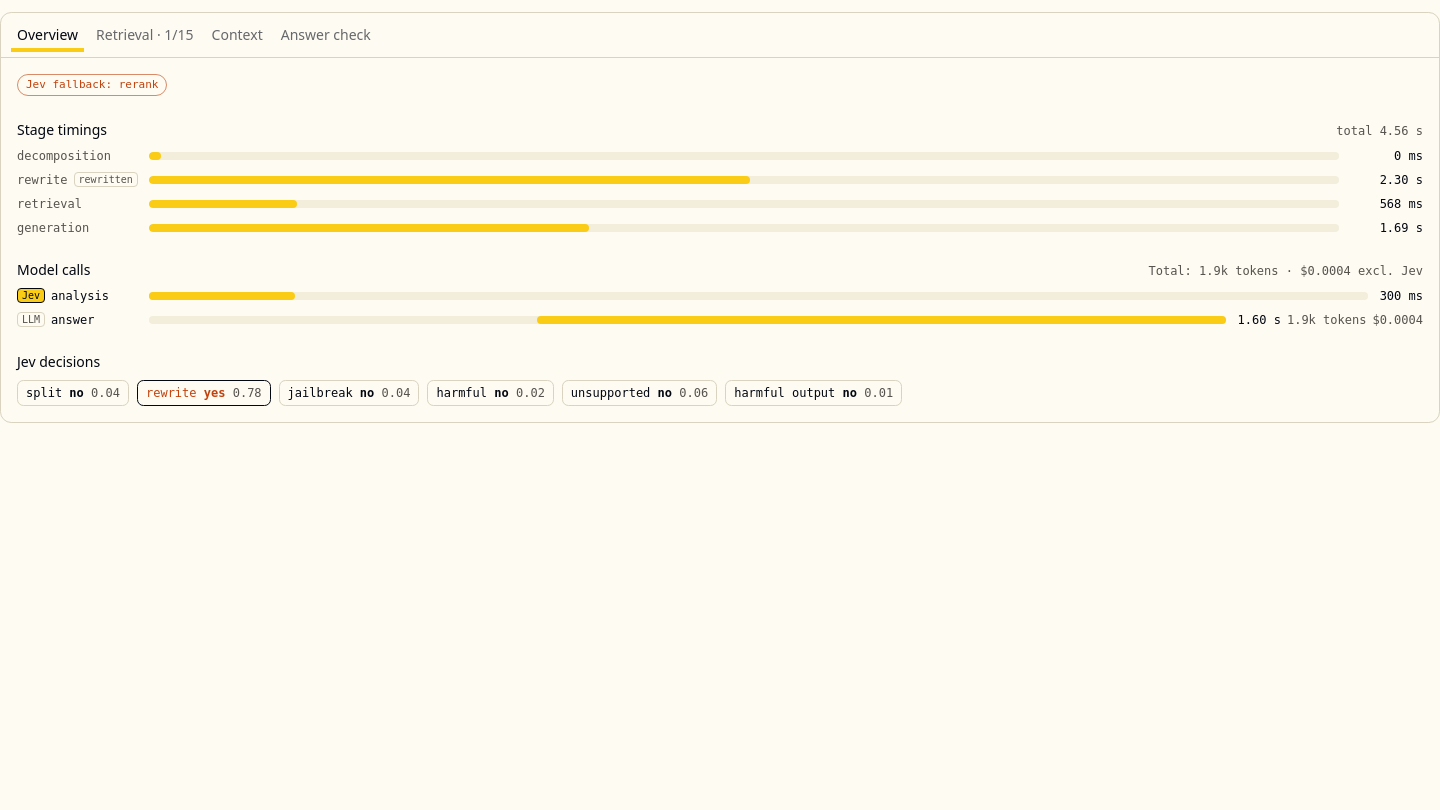
Test: transparency fields › retrieval lists every candidate with a found → kept headline
This screenshot has width=1440, height=810.
Click the tab "Retrieval · 1/15" at x=145, y=35, box [89, 22, 201, 48]
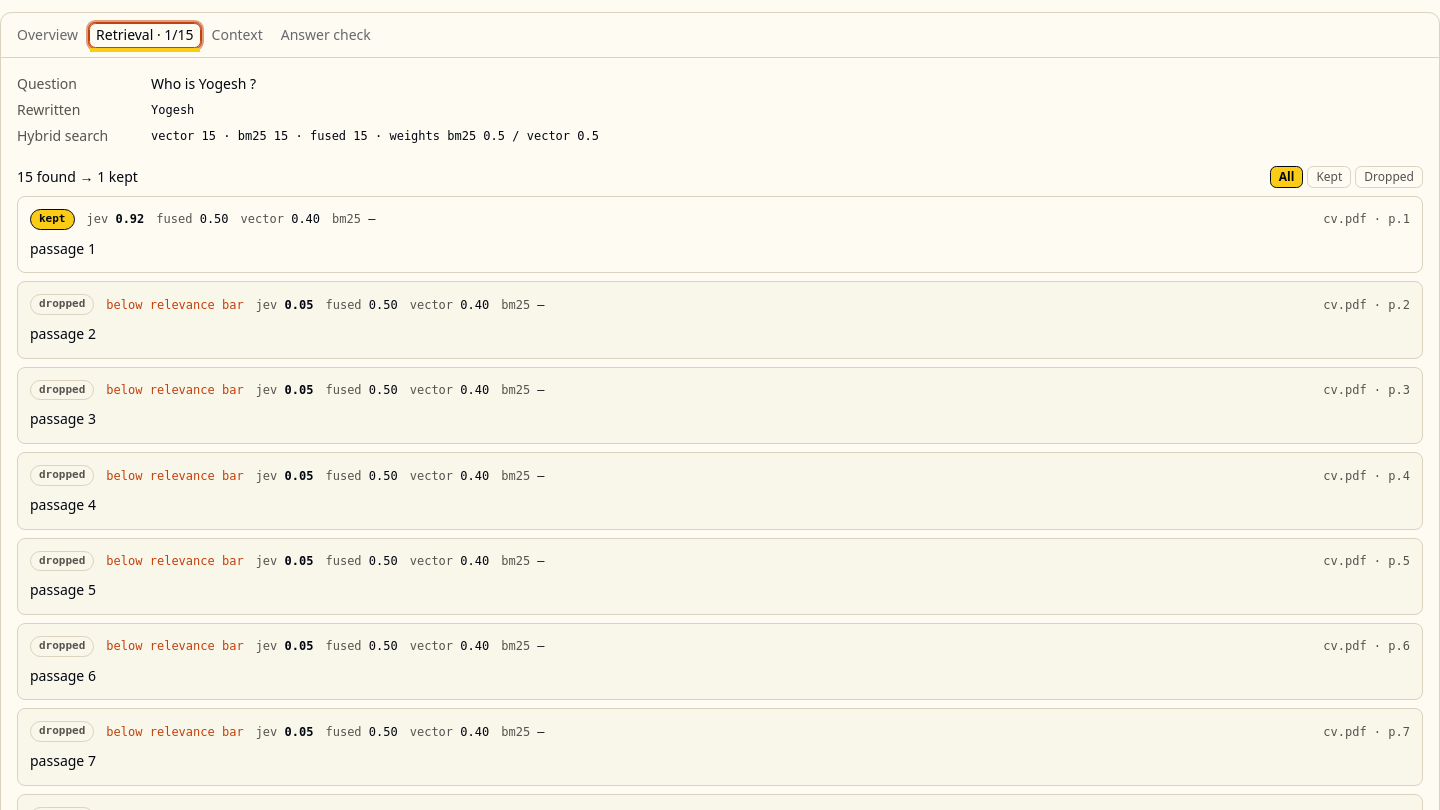
Expected: the heading "15 found → 1 kept" is shown, [17, 167, 138, 187]
Expected: the number of list items is 15
Expected: the text "below relevance bar" is shown 14 times
